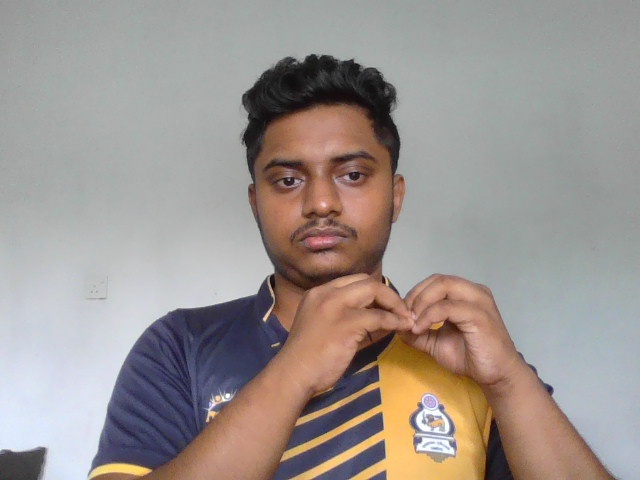More: (287, 271, 531, 398)
